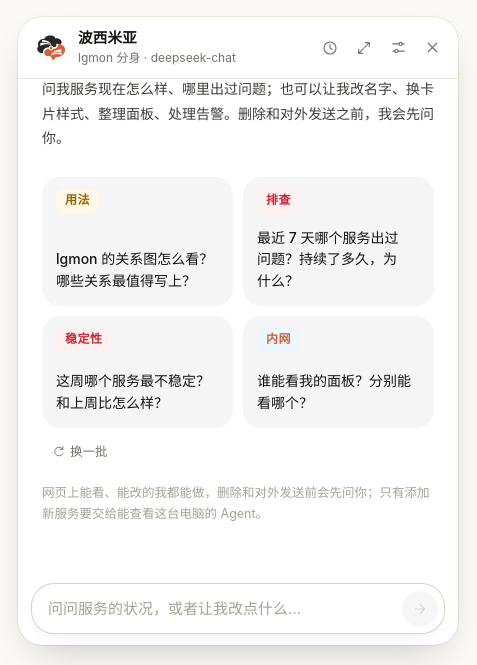
Scenario: asks before a step that deletes, and shows what it changed
(page scrolled)
Step 1. Type "把 web 改名叫官网，再删掉旧博客" into the text box named "问波西米亚" → (221, 608), box [48,590,394,627]
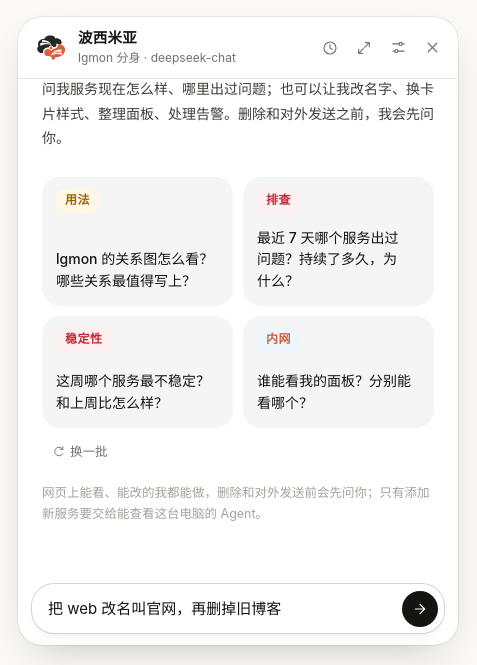
Step 2. Press Enter in the text box named "问波西米亚", box [48,590,394,627]
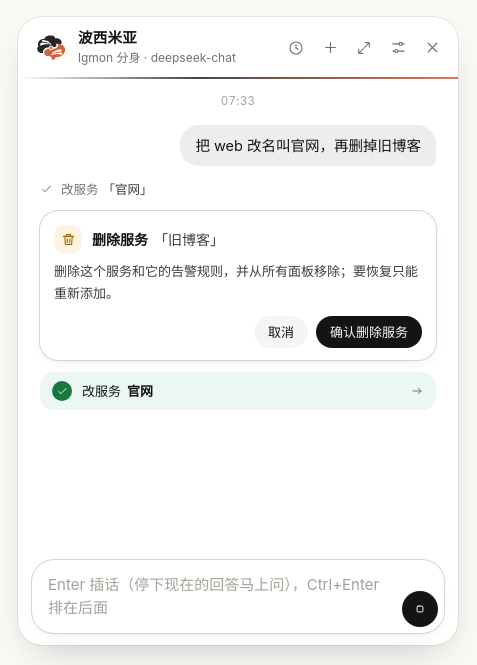
Check: the text "删除这个服务和它的告警规则，并从所有面板移除；要恢复只能重新添加。" is shown, box [54,261,422,304]
Check: the text "旧博客" is shown, box [154,230,224,248]
Step 3. Click the button "确认删除服务" → (369, 332), box [316,316,422,348]
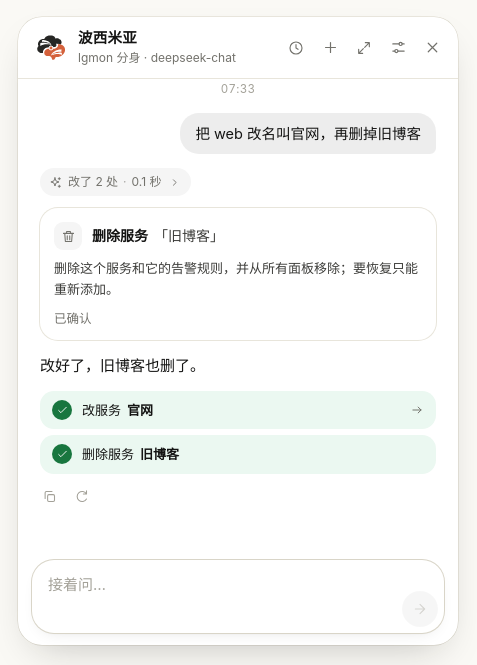
Check: the text "改好了，旧博客也删了。" is shown, box [40,356,205,375]
Check: the text "已确认" is shown, box [54,311,92,326]
Check: the text "旧博客" below "改服务" is shown, box [140,446,179,462]
